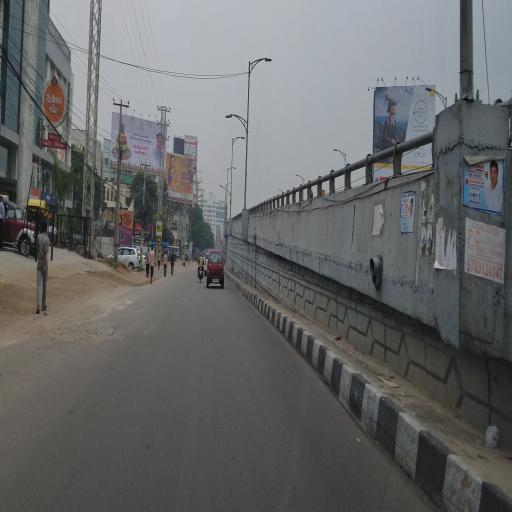street_light_0: (247, 47, 277, 77), (419, 76, 449, 100), (225, 101, 247, 131), (327, 135, 349, 161), (212, 175, 232, 201), (225, 158, 239, 178)
